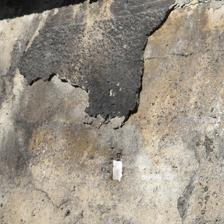Crack: (18, 118, 116, 181), (67, 0, 121, 114)
